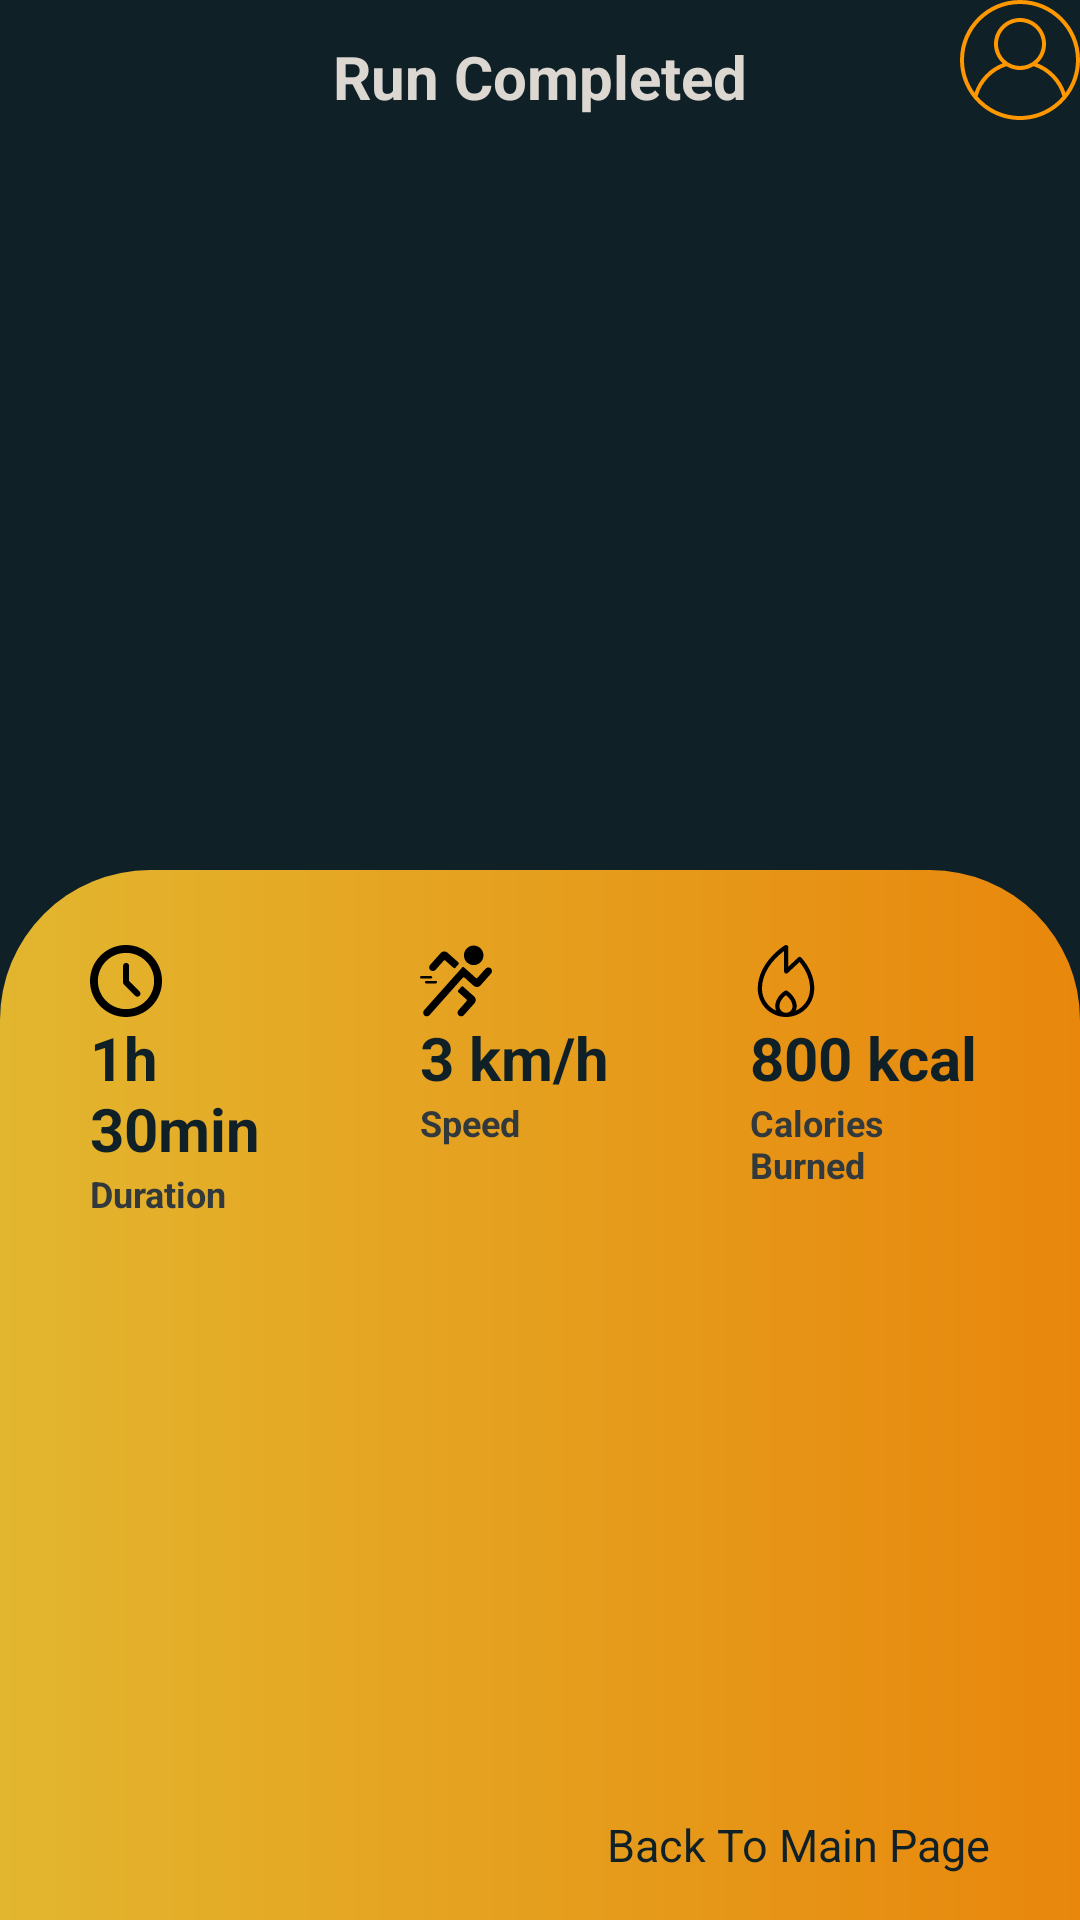

Named icons in this screenshot (1080 x 1920) and their centers, point (x, y):
clock circular: point (126, 981)
user: point (1020, 60)
